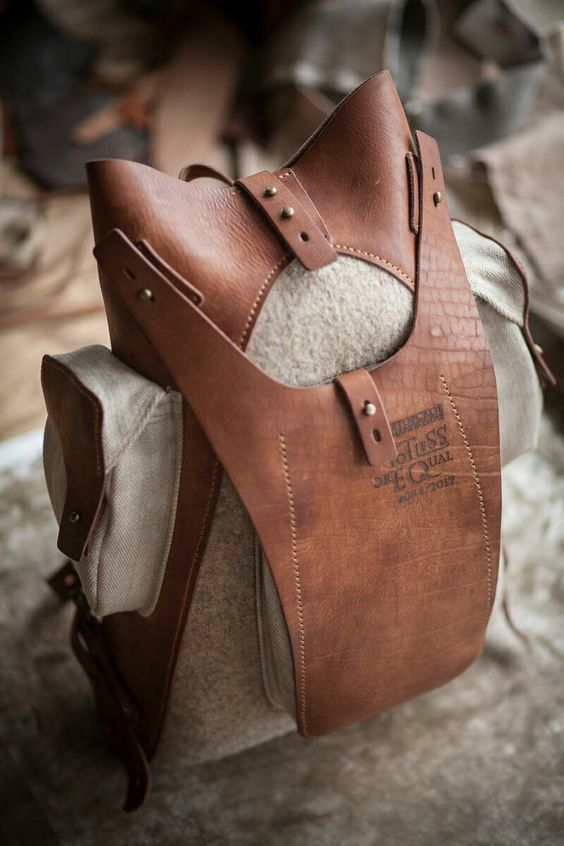cuero: (86, 69, 505, 816)
